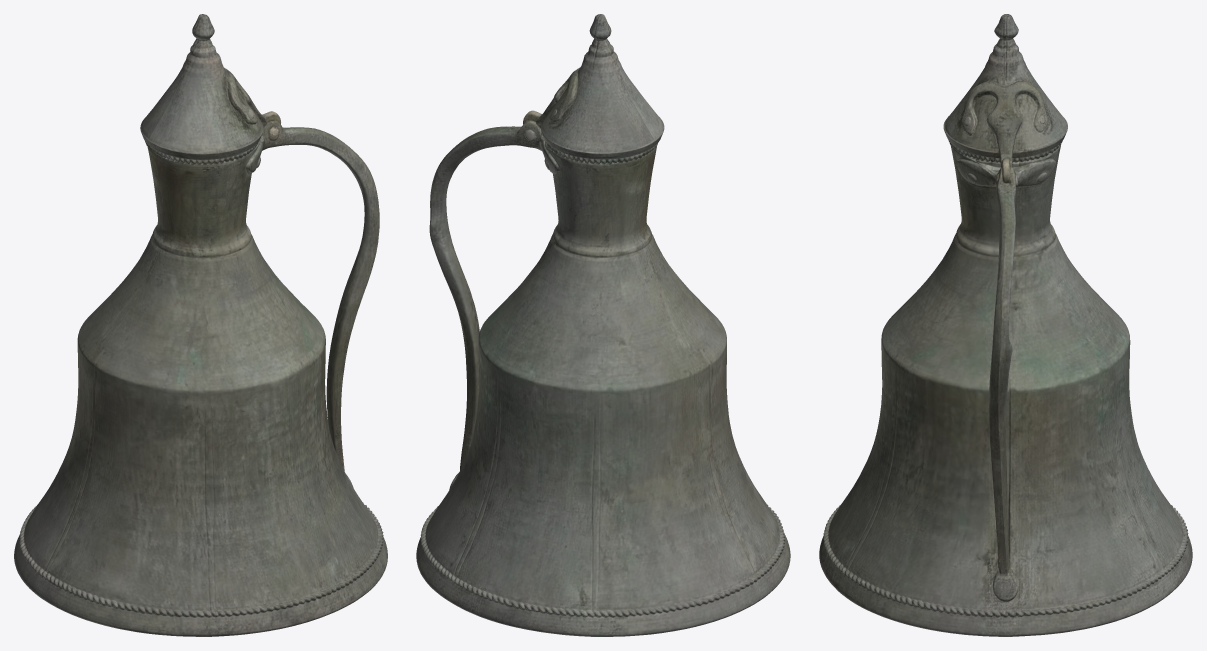
Rendered from ibrik.glb.
The picture shows the model from 3 angles, left to right: view 1: azimuth 30°, elevation 25°; view 2: azimuth 150°, elevation 25°; view 3: azimuth 270°, elevation 25°; orthographic projection.
Bounding box in the file's own units: 1.23 × 1.9 × 1.17.
1 material, 1 textured.
